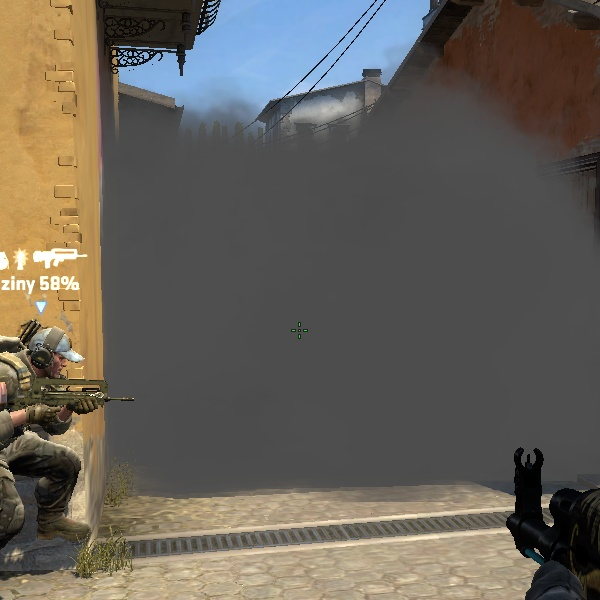ct_body: (5, 304, 113, 573)
